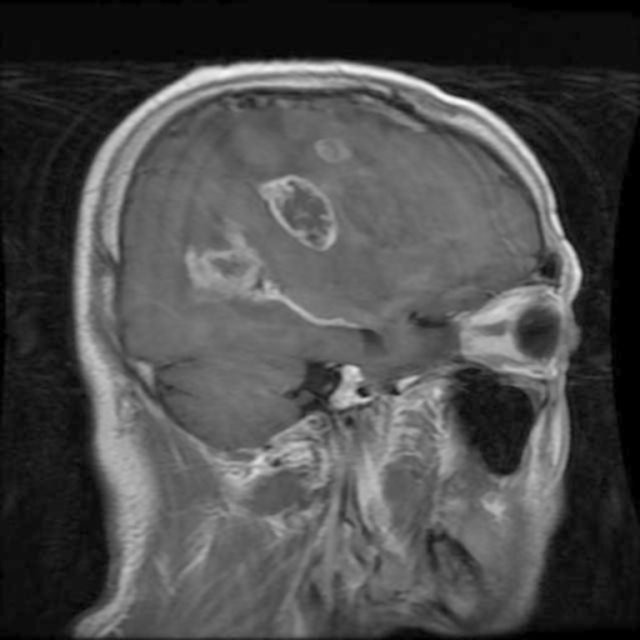pituitary tumor: (262, 178, 342, 254), (186, 252, 279, 298), (307, 139, 355, 160)
